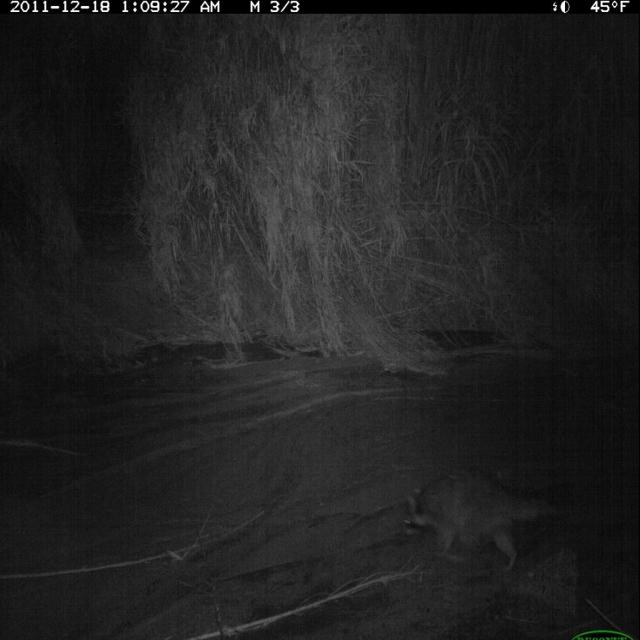raccoon: (396, 457, 564, 581)
